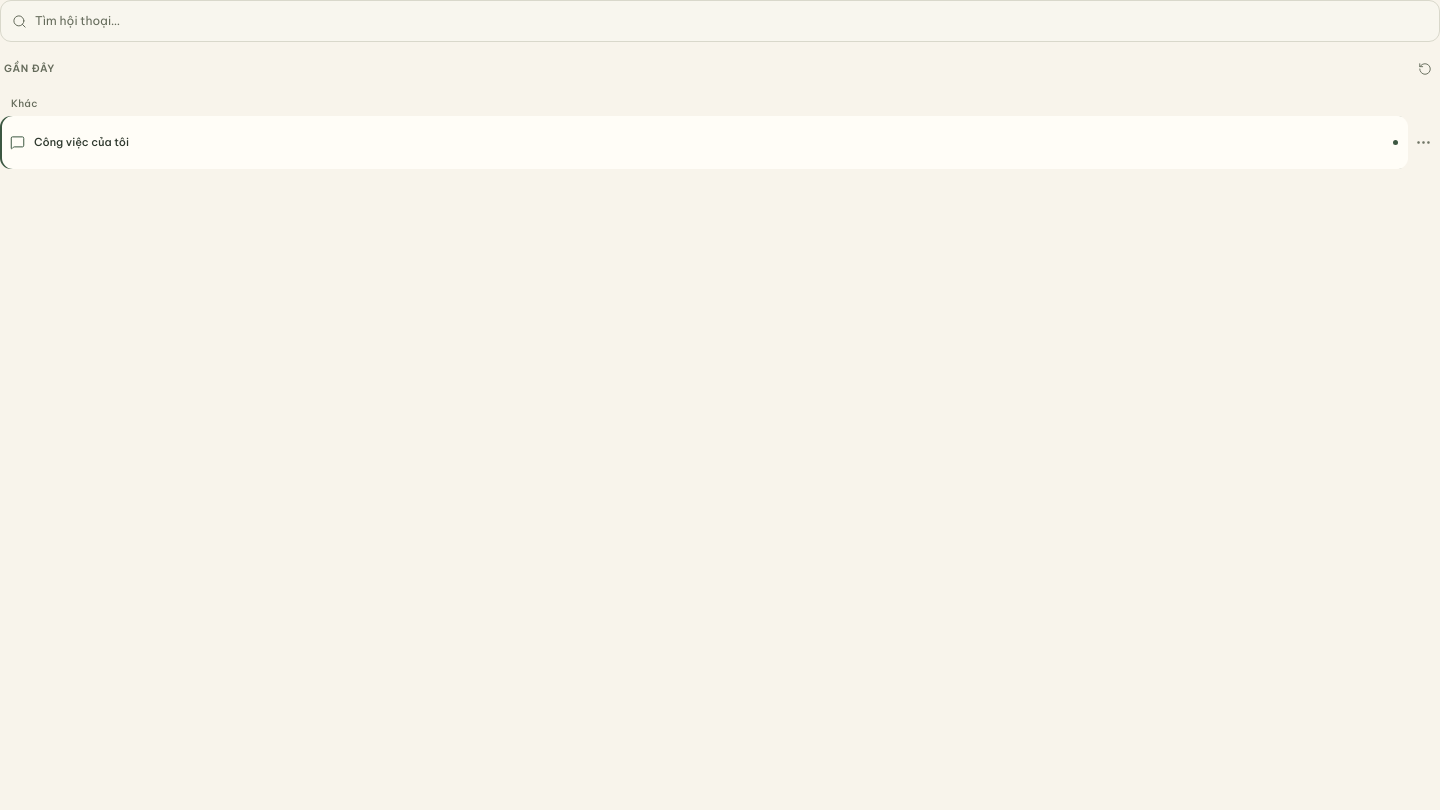
Test case: conversation lifecycle controls › requires confirmation and preserves the conversation if delete fails
Expected: the text "Công việc của tôi" is shown, [34,135,129,149]
What coordinates should you click on to do the following:
click the button named "Tùy chọn: Công việc của tôi"
I would click on:
 (1423, 142)
Its box is [1408,124,1438,160].
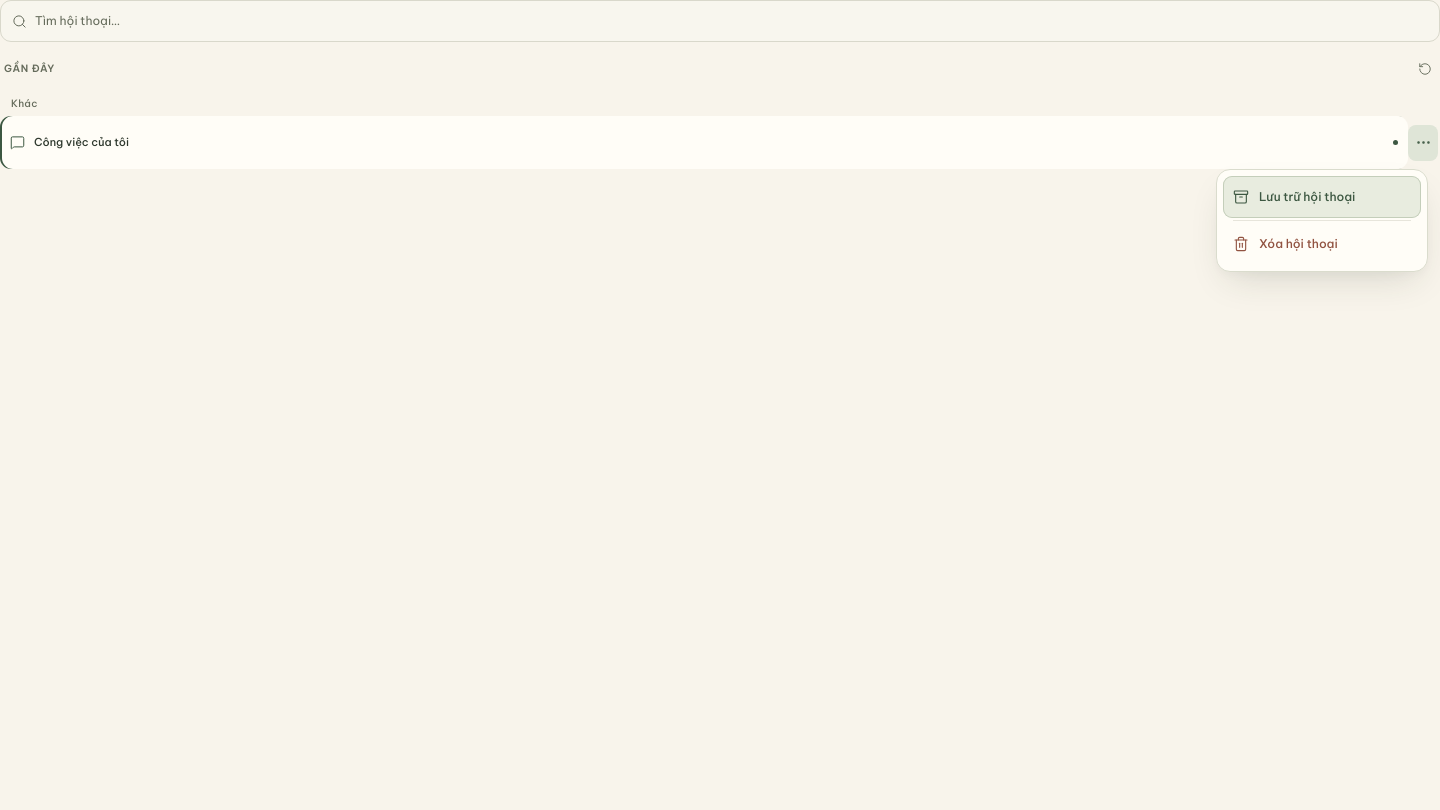
What coordinates should you click on to do the following:
click the button "Xóa hội thoại"
I would click on:
 (1322, 244)
Its box is [1223,222,1421,264].
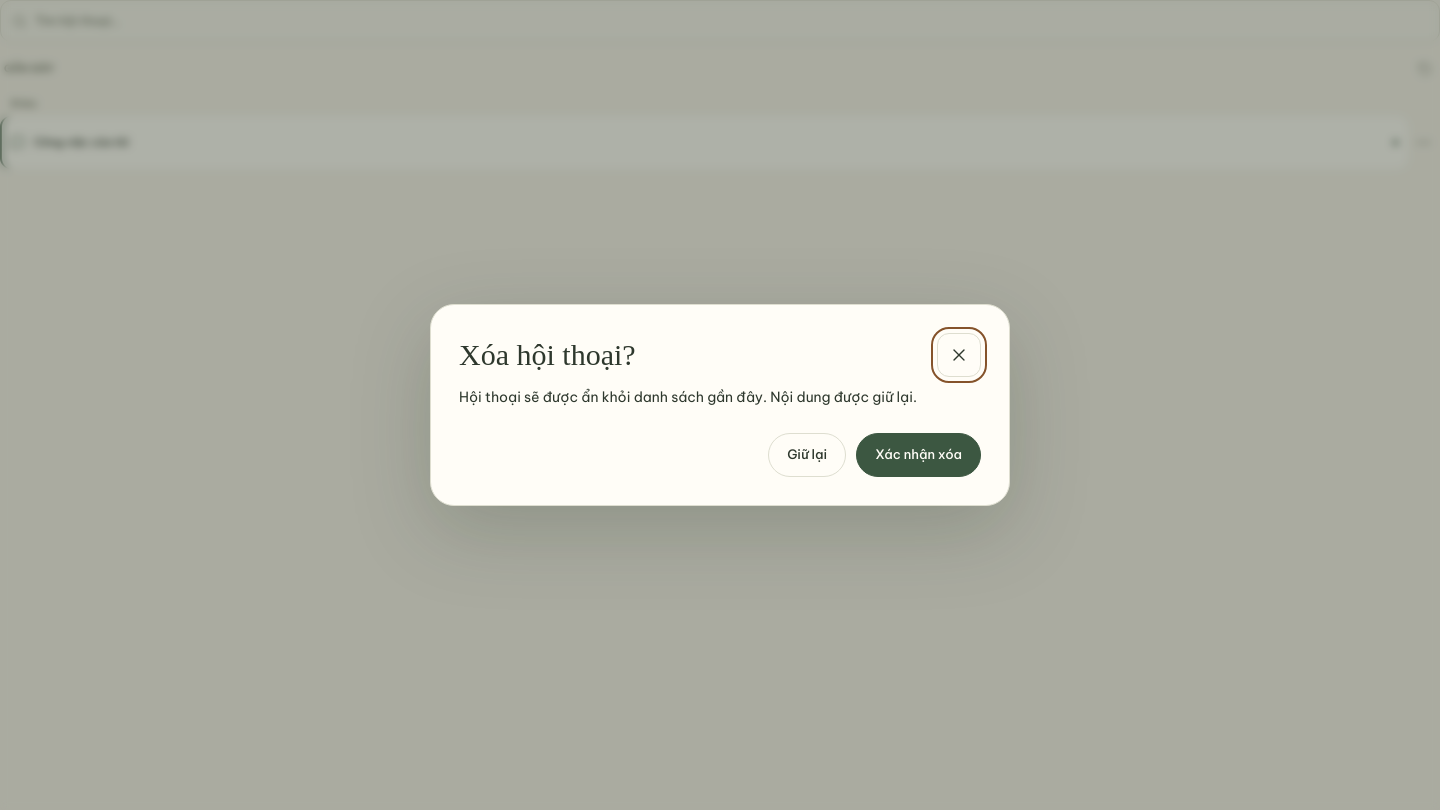
Result: the dialog "Xóa hội thoại?" is shown
What coordinates should you click on to do the following:
click the button "Xác nhận xóa"
I would click on:
 (919, 455)
Its box is [856,433,981,477].
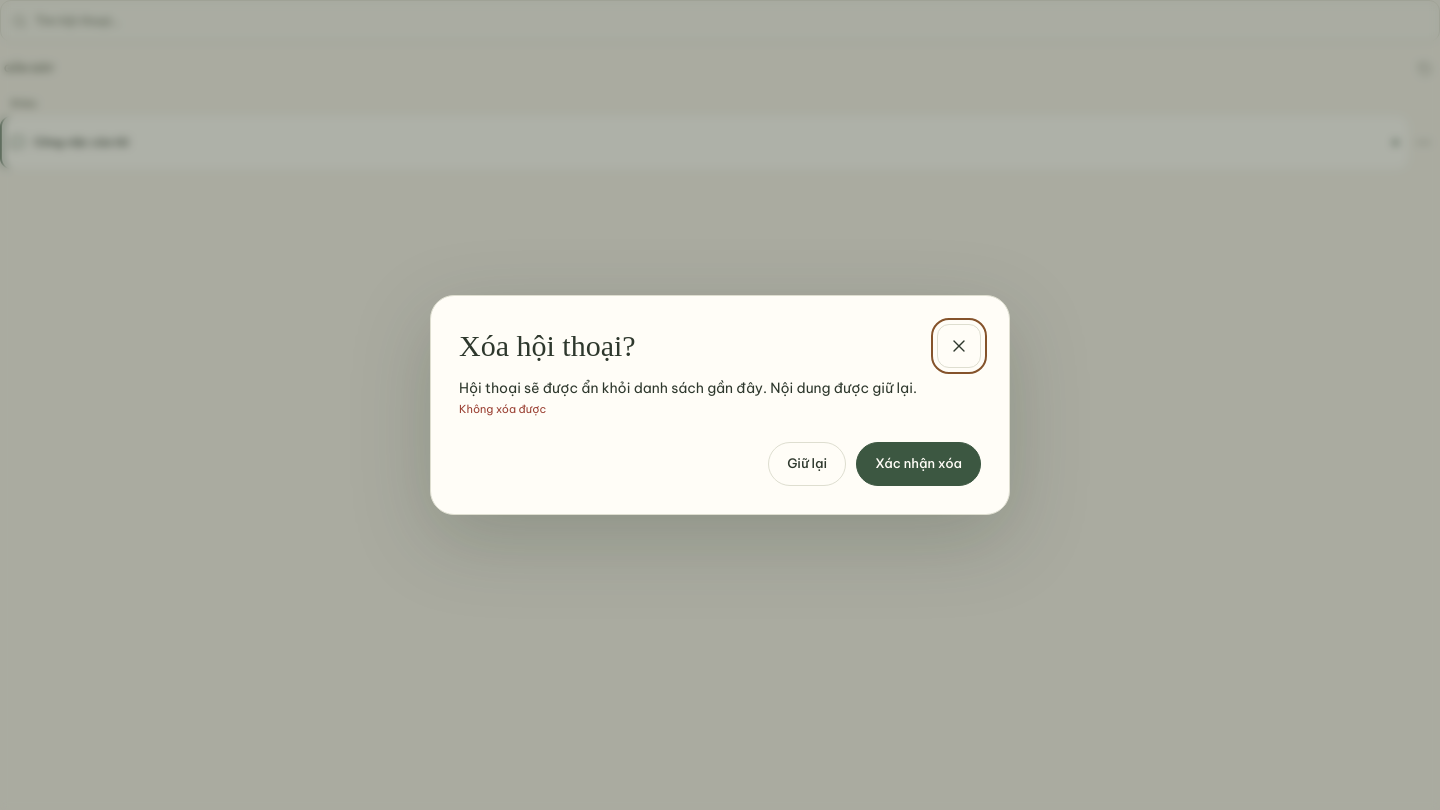
Expected: the text "Công việc của tôi" is shown, [34,135,129,149]
Result: the text "Không xóa được" is shown at [459,402,546,416]
